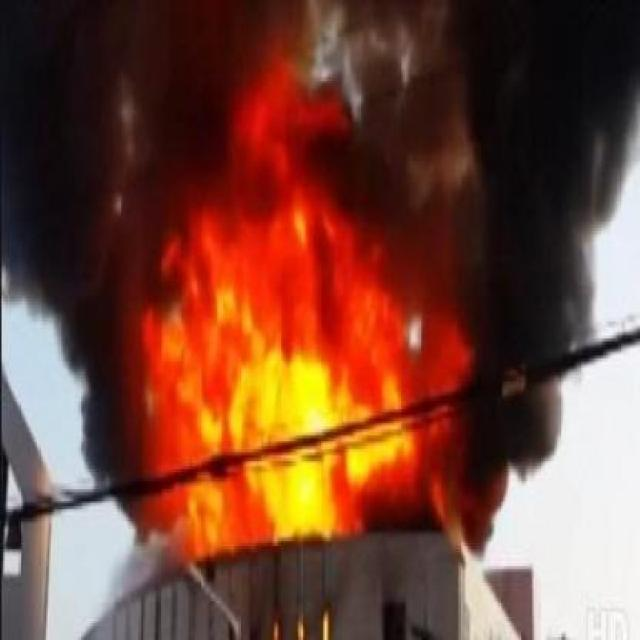Fire: (165, 66, 490, 565)
Smoke: (355, 0, 640, 565), (0, 8, 160, 558), (154, 6, 497, 223)
